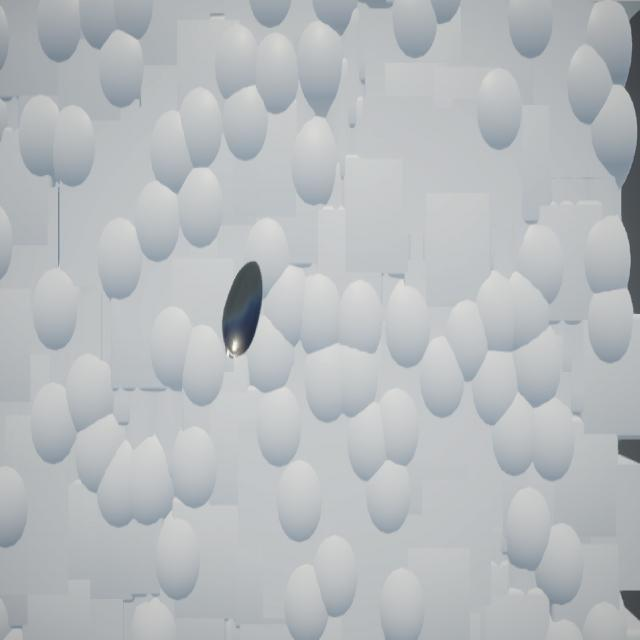top_spoon: (223, 262, 264, 360)
